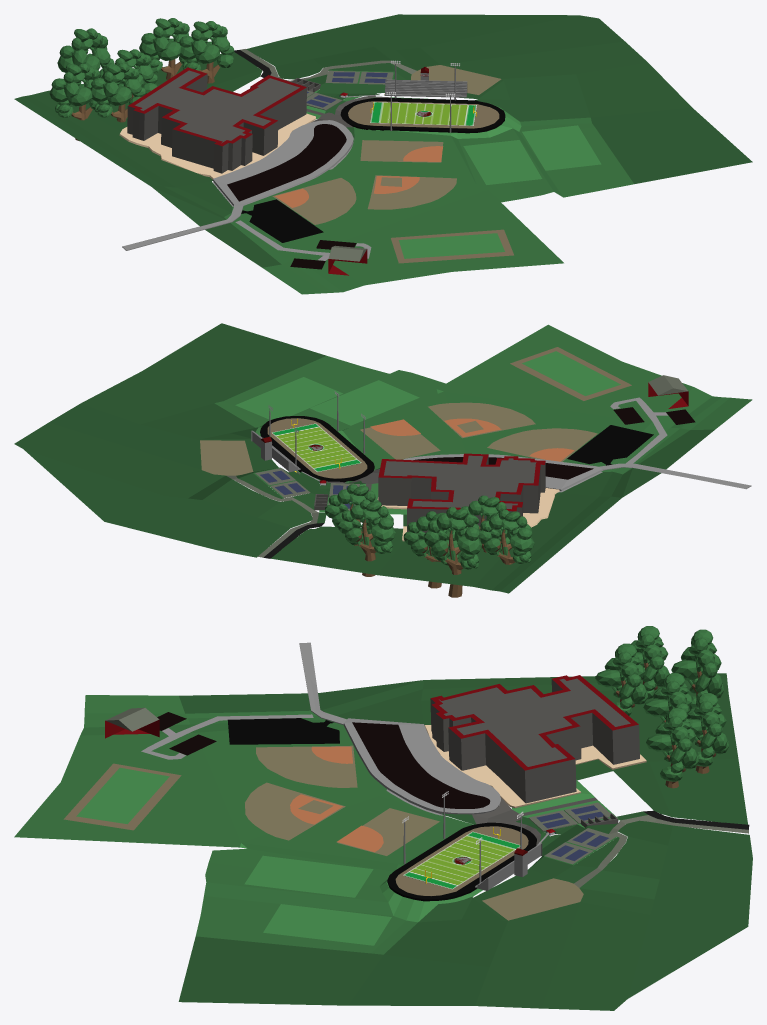
The model's file is broadneck32.glb.
The picture shows the model from 3 angles, top to bottom: view 1: azimuth 30°, elevation 25°; view 2: azimuth 150°, elevation 25°; view 3: azimuth 270°, elevation 25°; orthographic projection. The views are drawn at different scales.
Visible parts, largest first — view 1: Cylinder.001, Oak, Oak.005, Oak.004, Oak.001, Oak.003, Oak.002; view 2: Cylinder.001, Oak.003, Oak.001, Oak.004, Oak.002, Oak, Oak.005; view 3: Cylinder.001, Oak, Oak.003, Oak.005, Oak.001, Oak.004, Oak.002.
Boxes of the visible parts, <box> form: Cylinder.001: <box>14,14,752,294</box>; Oak: <box>179,21,234,83</box>; Oak.005: <box>90,63,146,122</box>; Oak.004: <box>49,63,100,141</box>; Oak.001: <box>139,18,189,80</box>; Oak.003: <box>57,28,114,84</box>; Oak.002: <box>101,49,157,98</box>; Cylinder.001: <box>14,323,752,593</box>; Oak.003: <box>424,507,481,597</box>; Oak.001: <box>337,499,395,576</box>; Oak.004: <box>479,510,534,564</box>; Oak.002: <box>403,511,458,588</box>; Oak: <box>325,484,378,545</box>; Oak.005: <box>460,495,510,552</box>; Cylinder.001: <box>14,642,752,1010</box>; Oak: <box>646,708,698,788</box>; Oak.003: <box>671,629,723,710</box>; Oak.005: <box>595,643,647,715</box>; Oak.001: <box>687,693,729,773</box>; Oak.004: <box>631,626,669,699</box>; Oak.002: <box>643,673,691,722</box>.
Bounding box in the file's own units: 1.13 × 0.1694 × 0.9884.
Materials: 24 (2 with a texture image).
